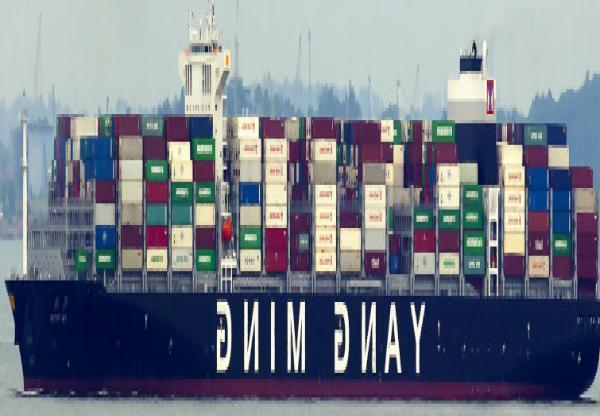Container Ship: (4, 2, 598, 402)
